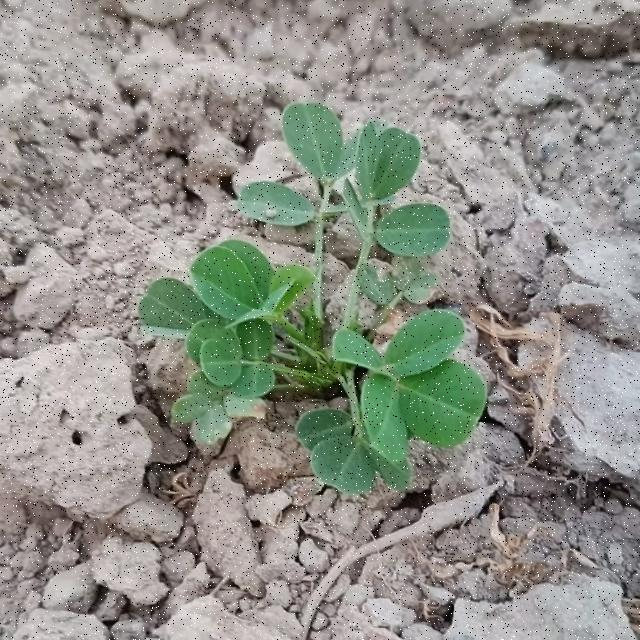plant: (139, 102, 487, 492)
